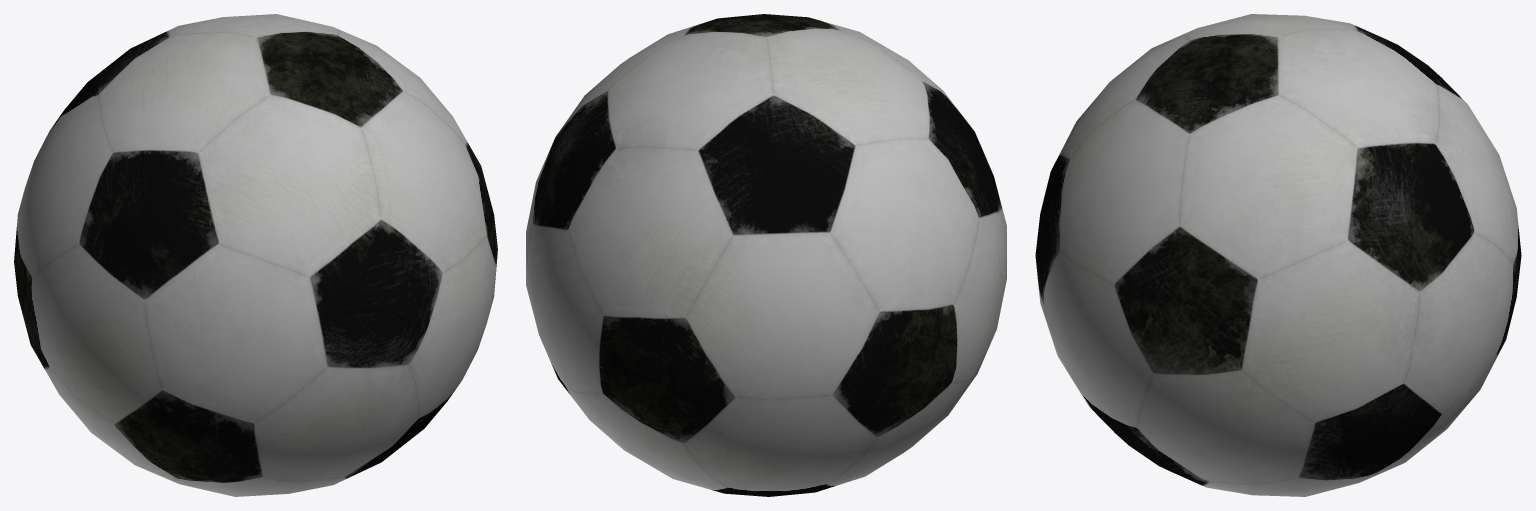
The model's file is soccer_ball.glb.
The picture shows the model from 3 angles, left to right: view 1: azimuth 30°, elevation 25°; view 2: azimuth 150°, elevation 25°; view 3: azimuth 270°, elevation 25°; orthographic projection.
Parts seen in each view (by area): view 1: g; view 2: g; view 3: g.
Boxes of the visible parts, <box> form: g: <box>14,14,497,496</box>; g: <box>526,14,1006,496</box>; g: <box>1035,14,1521,496</box>.
Bounding box in the file's own units: 1.99 × 1.98 × 2.
Materials: 1 (1 with a texture image).
